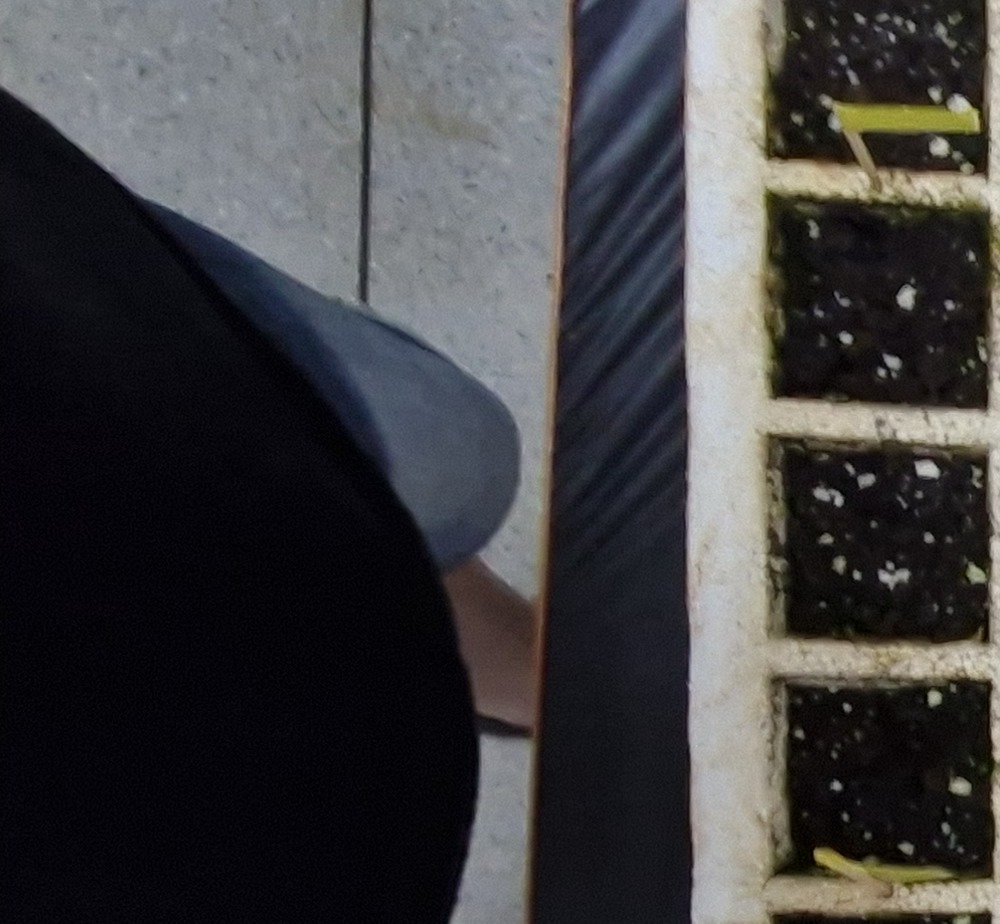Folha: (957, 844, 976, 857), (978, 836, 994, 851)
Germinacao: (958, 834, 994, 857)
